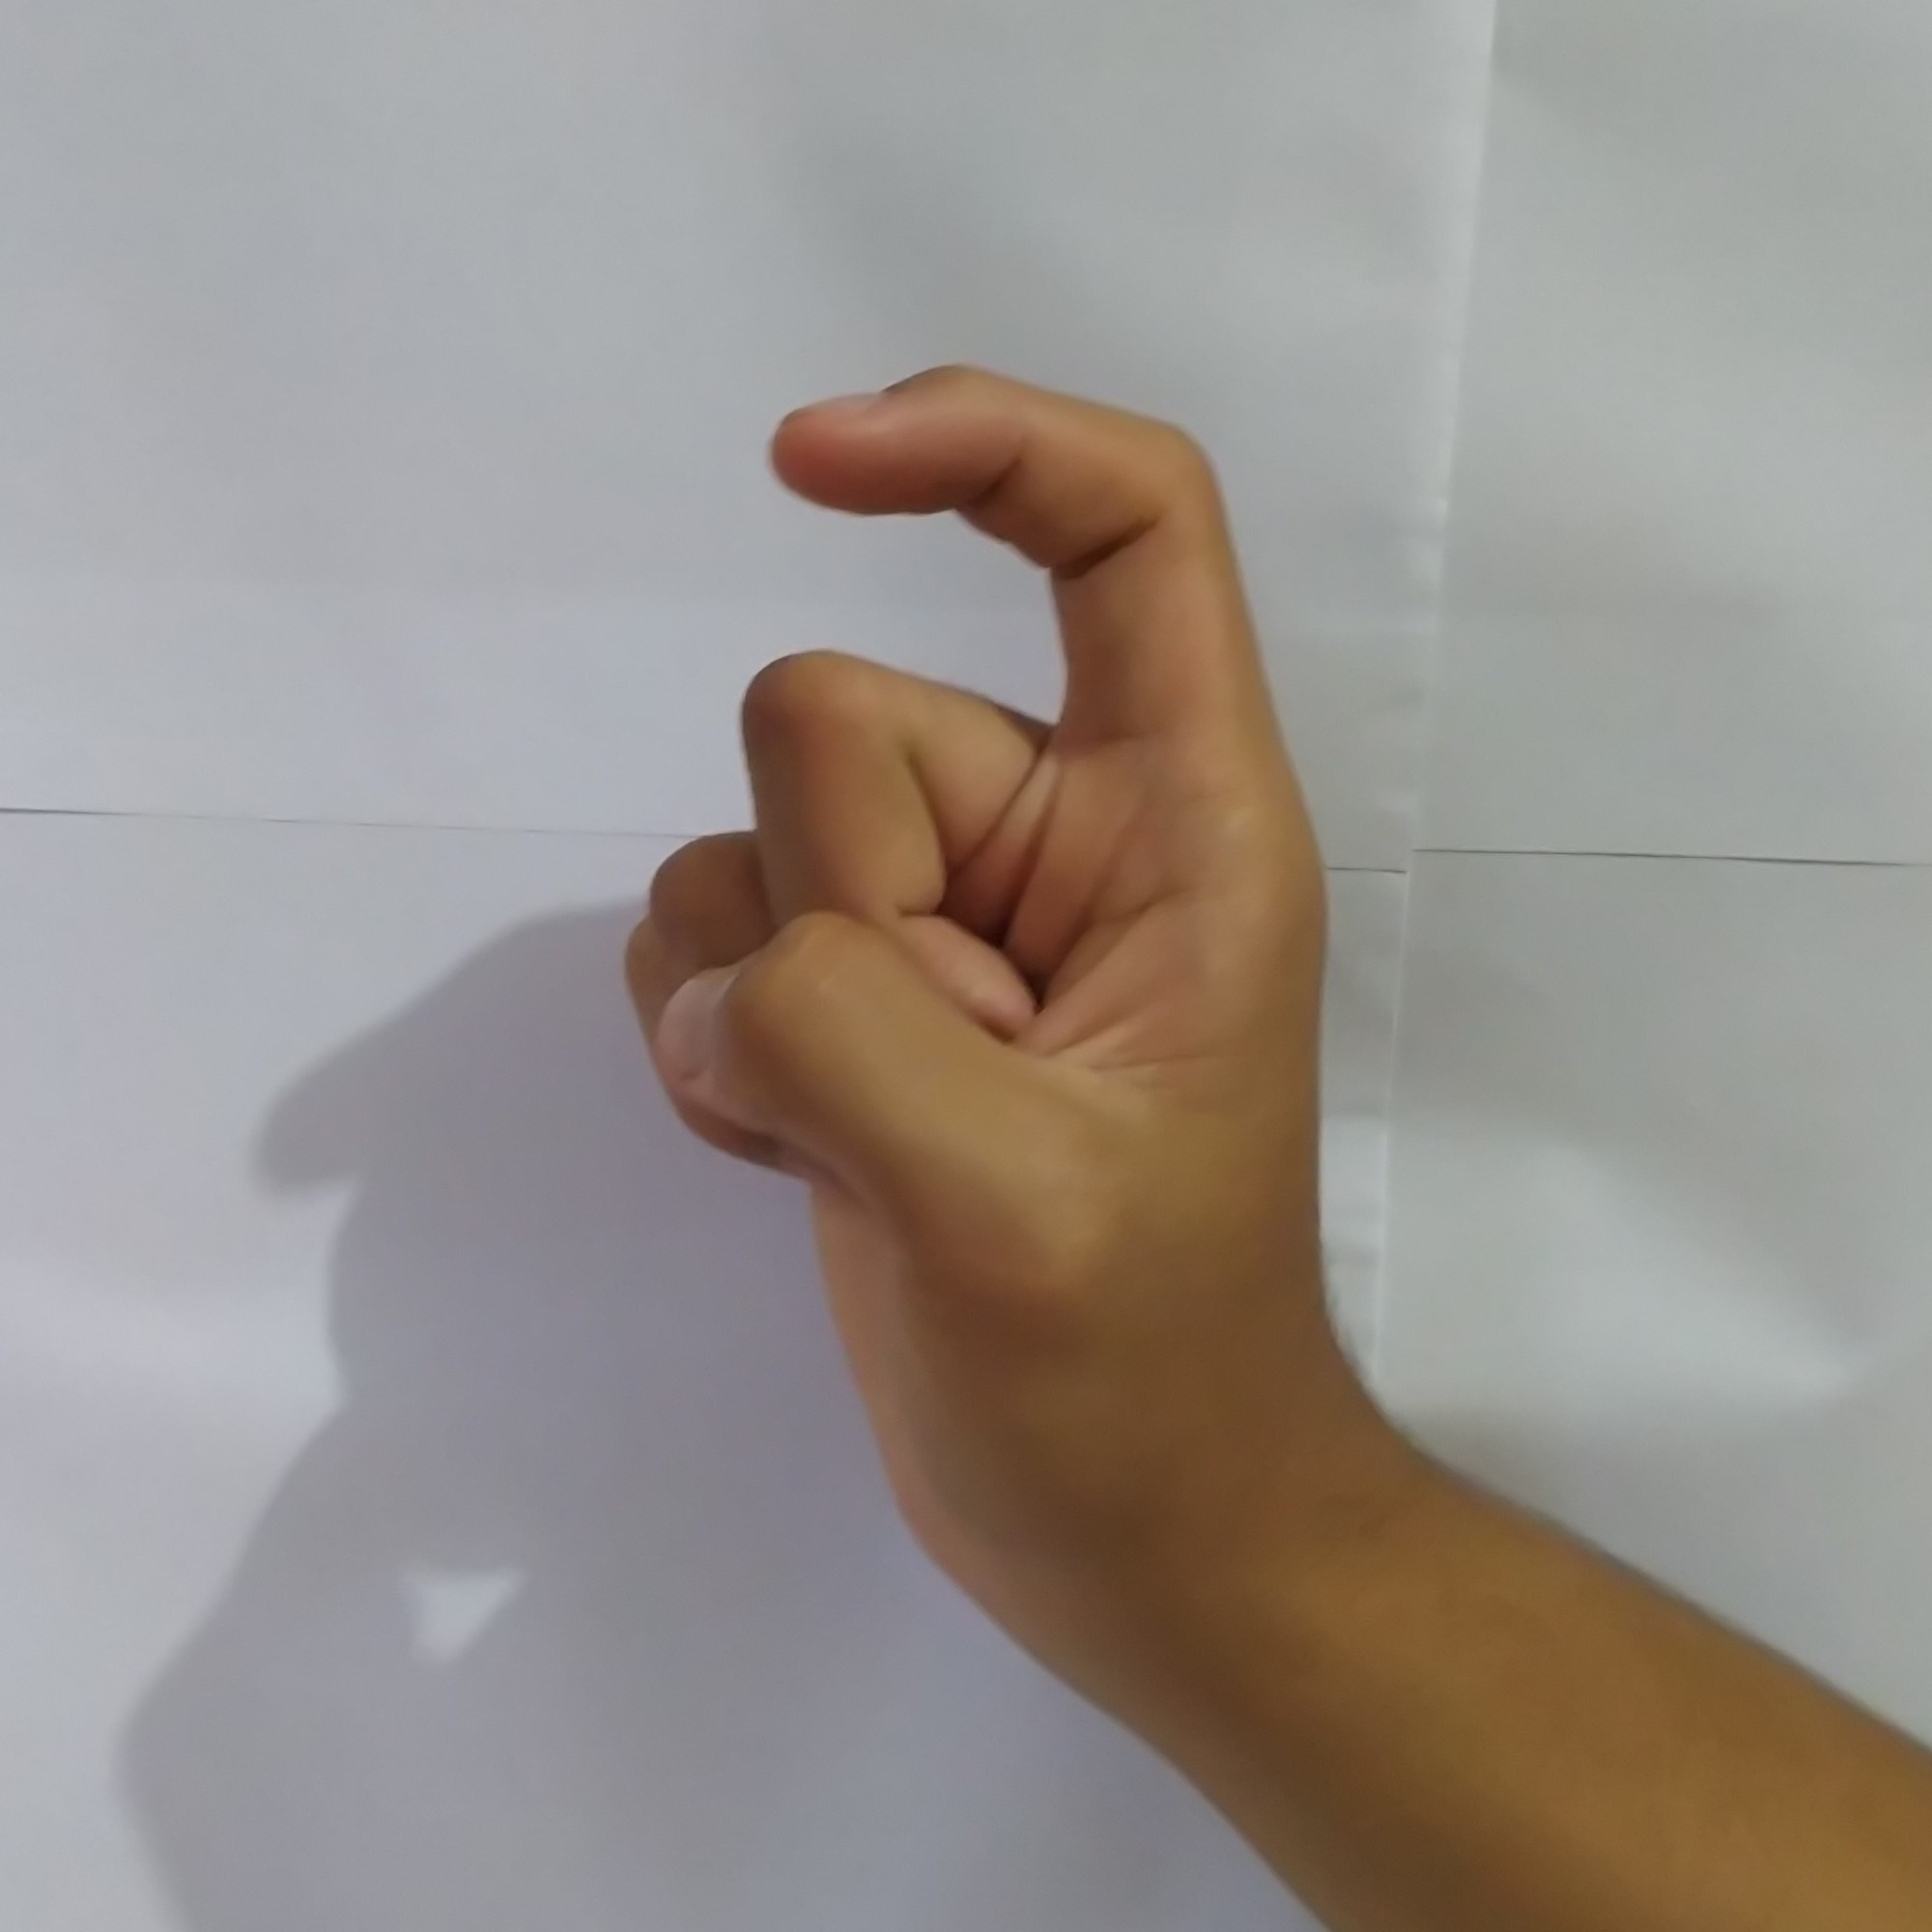X: (587, 320, 1392, 1663)
